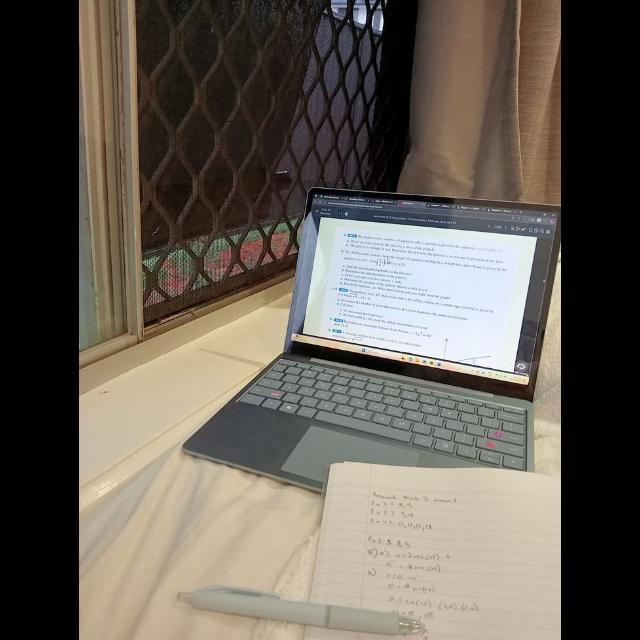laptop: (236, 180, 554, 526)
